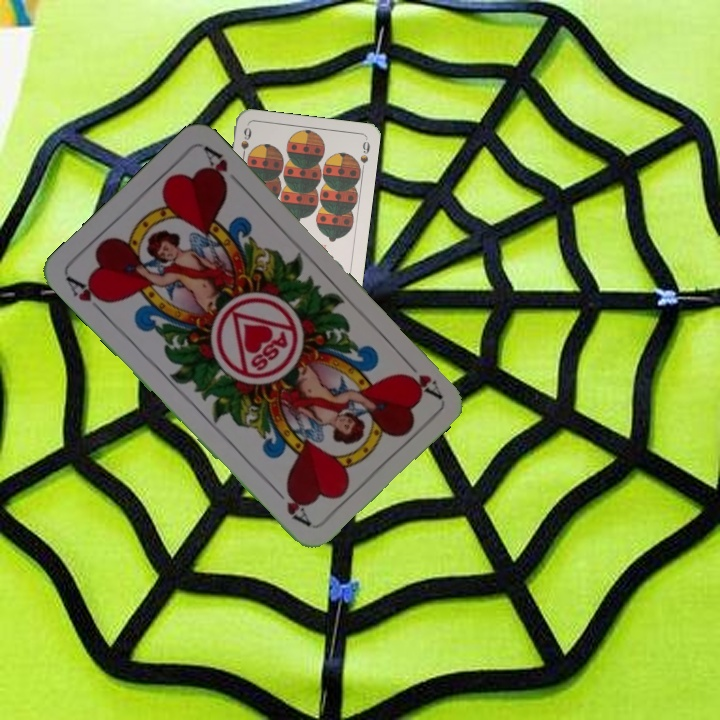HA: (62, 273, 112, 319), (398, 354, 444, 402)
S9: (237, 123, 254, 164)
